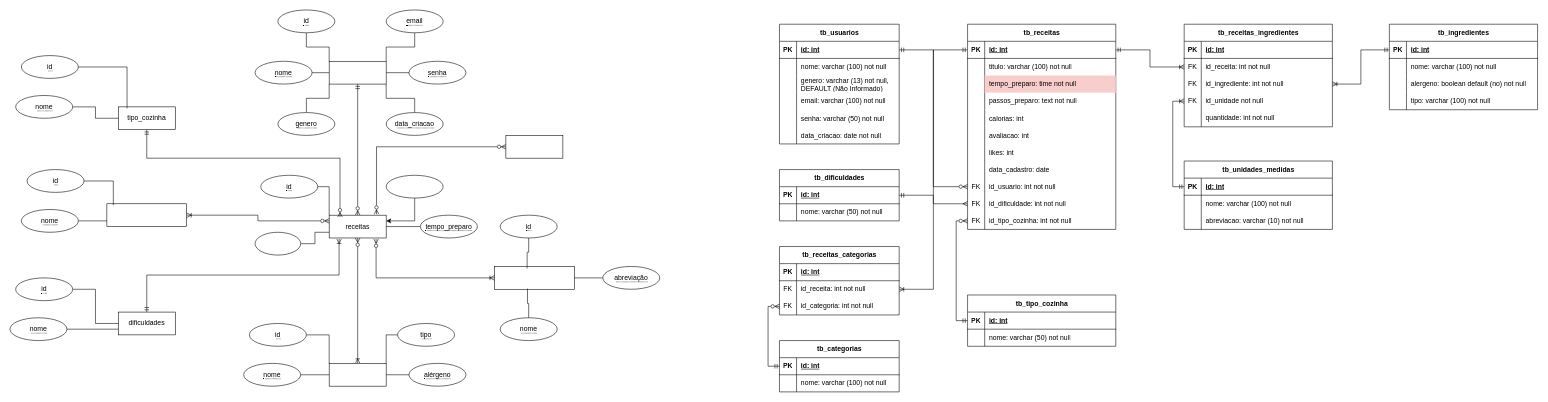
Image size: 1548x402. Some labels were removed from this diagram. Here are the shapes that lost their labels. From the top down, the centre of each, then its label:
At pixel 357 72: "usuarios".
At pixel 534 146: "likes".
At pixel 414 186: "titulo".
At pixel 146 215: "categorias".
At pixel 278 243: "calorias".
At pixel 534 277: "unidades_medida".
At pixel 357 374: "ingredientes".
